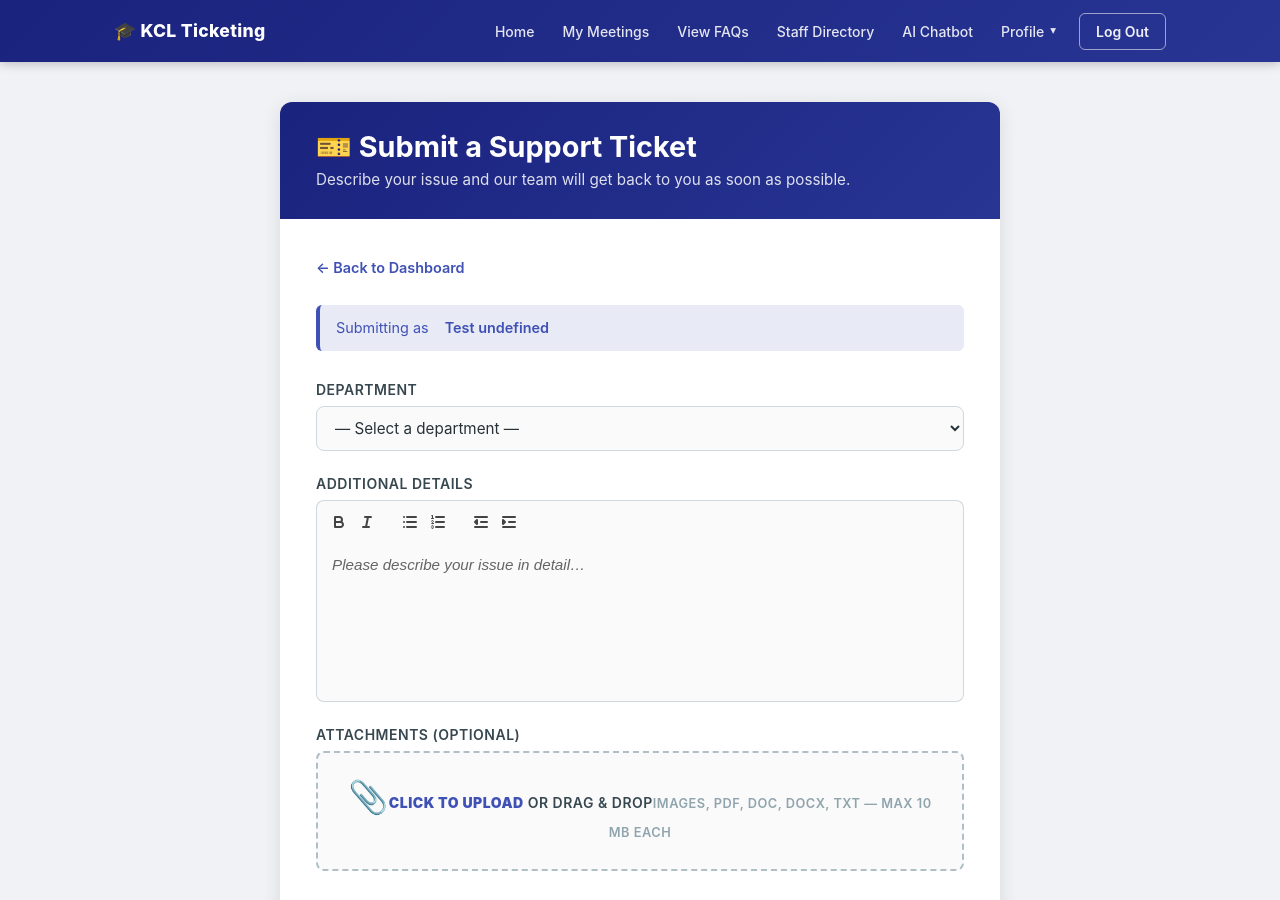
Test: issue type select and error display
Select "Informatics" in the dropdown labelled "Department" at (640, 428), box [316,406,964,451]
(page scrolled)
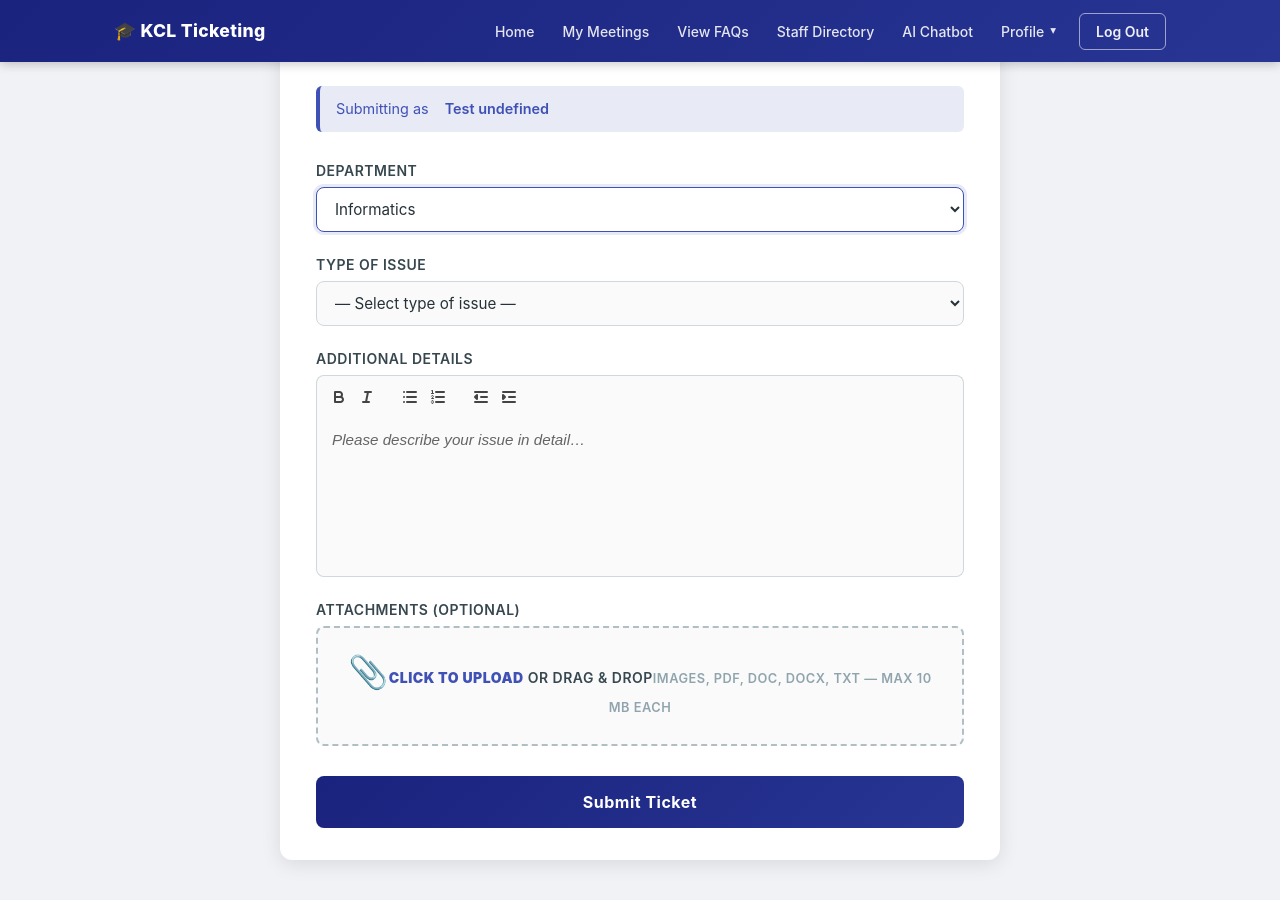
Click the button "Submit Ticket" at (640, 802), box [316,776,964,828]
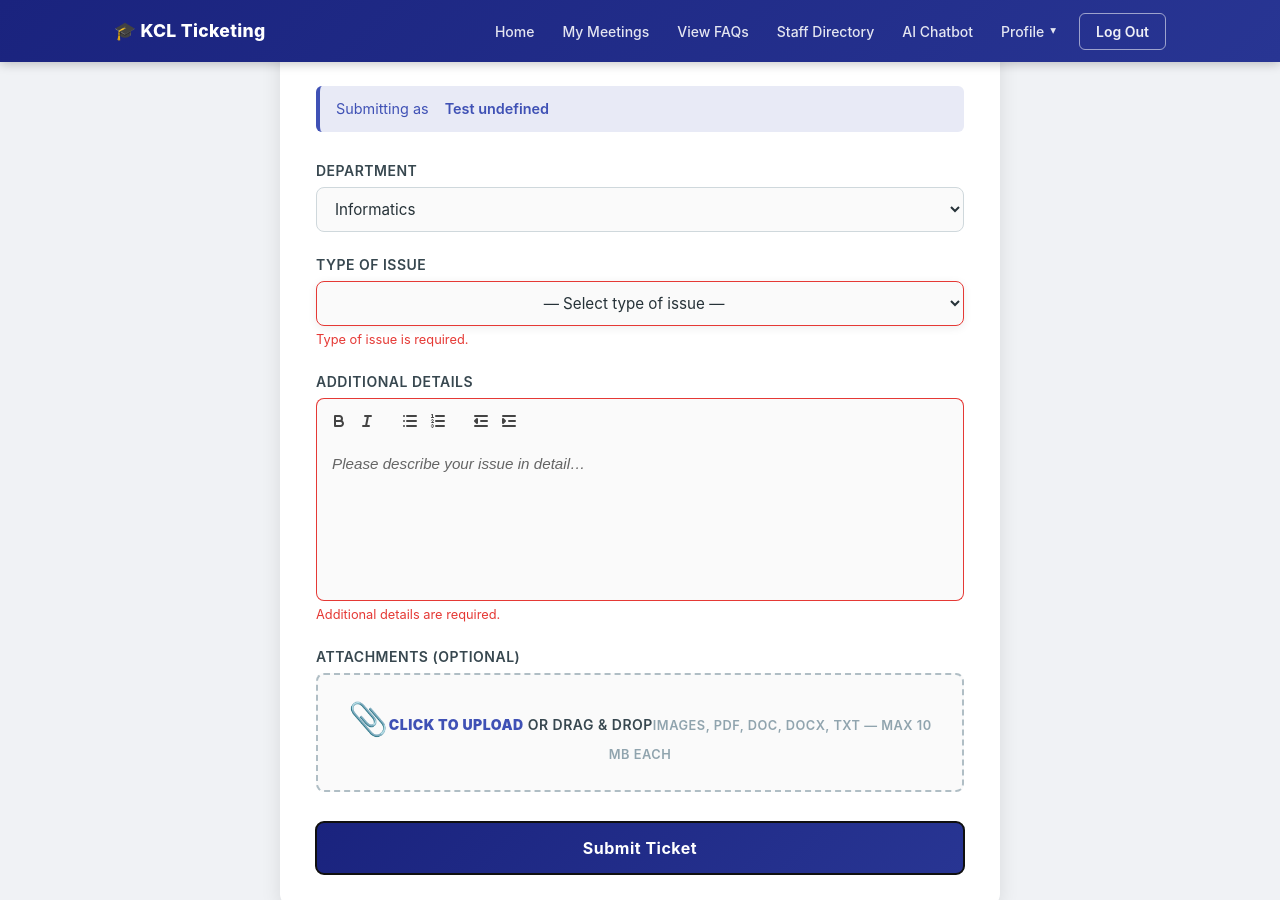
Expected: the text "Type of issue is required." is shown, [316,332,468,347]
